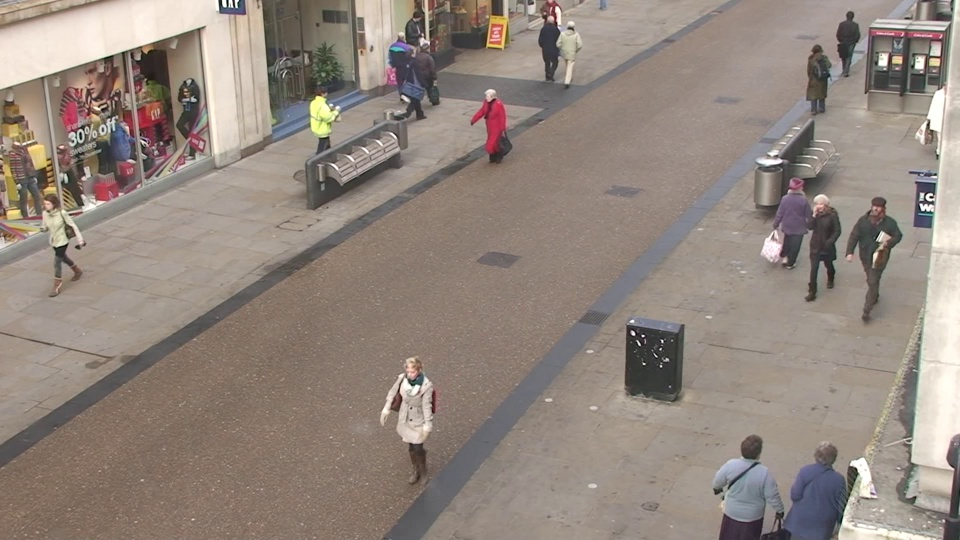pedestrian: (389, 350, 443, 505), (717, 423, 779, 540), (789, 428, 853, 540), (31, 189, 85, 302), (849, 192, 897, 310), (796, 190, 839, 306), (773, 171, 814, 282), (477, 86, 507, 173), (307, 81, 338, 165), (798, 41, 830, 119), (831, 9, 863, 80), (397, 45, 424, 120), (413, 39, 439, 113), (389, 29, 415, 100), (560, 18, 584, 86), (407, 9, 431, 75), (539, 11, 562, 78)
